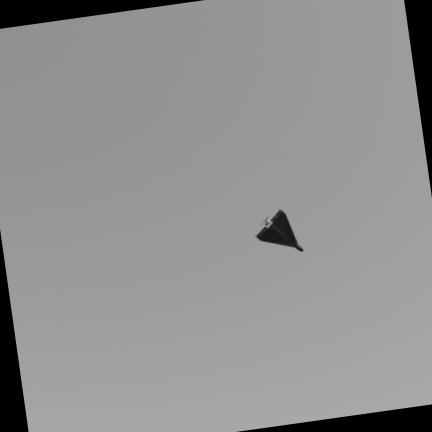Shahed: (256, 208, 303, 250)
